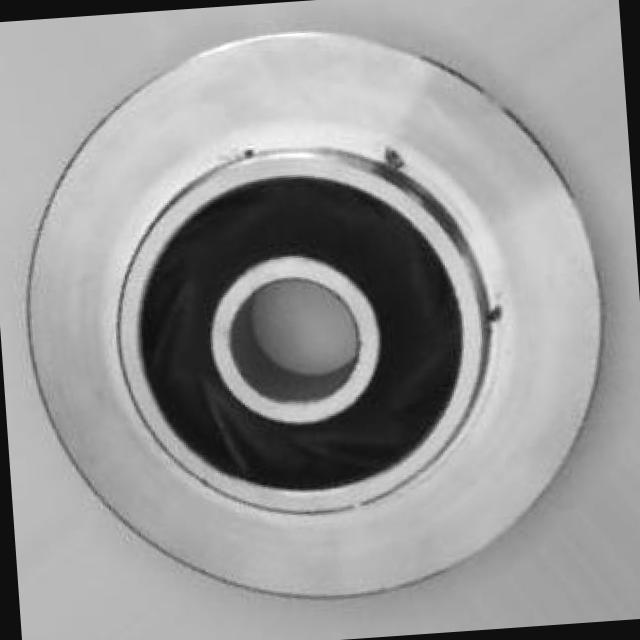Defect: (380, 142, 410, 174)
